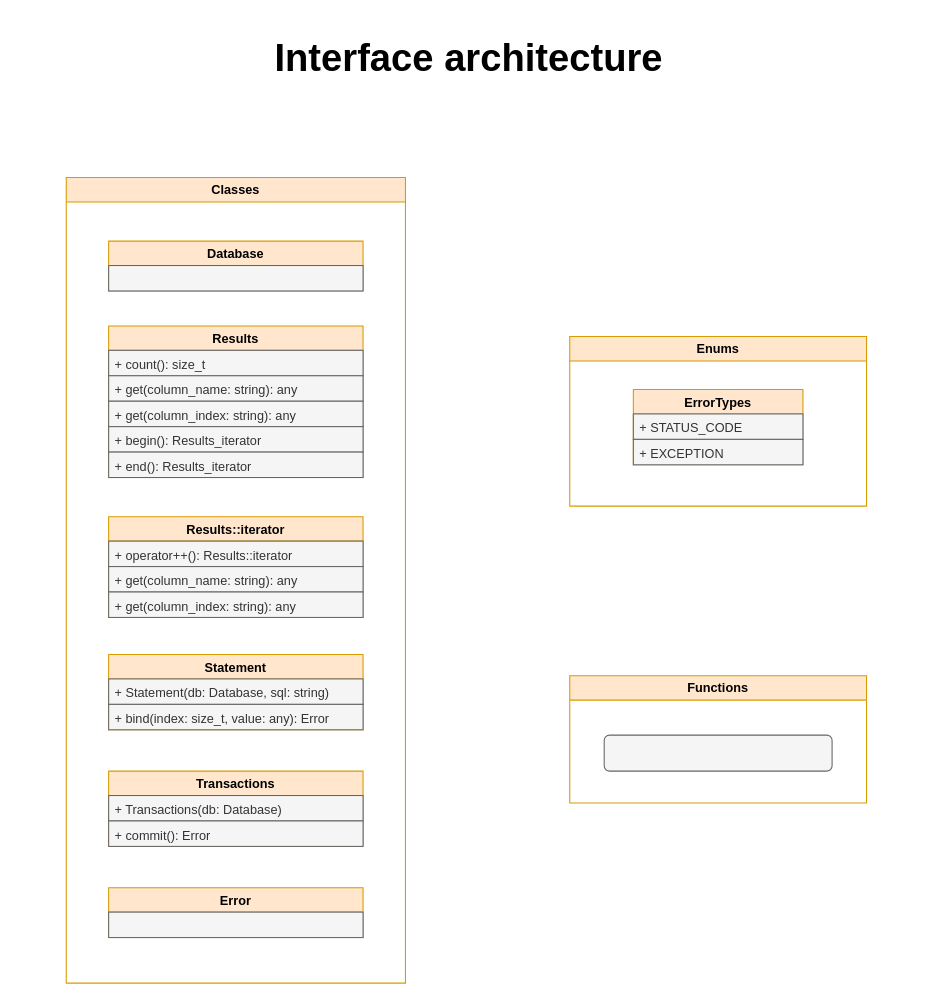
This 937x1002 diagram has some shape labels left out. Here are the shapes that lost their labels. From the top down, the centre of each, then its label:
(x=235, y=277): + Database(path:string, type: ErrorTypes)
(x=717, y=752): exec(db:Database, sql:string): Error
(x=235, y=924): + msg(): string
